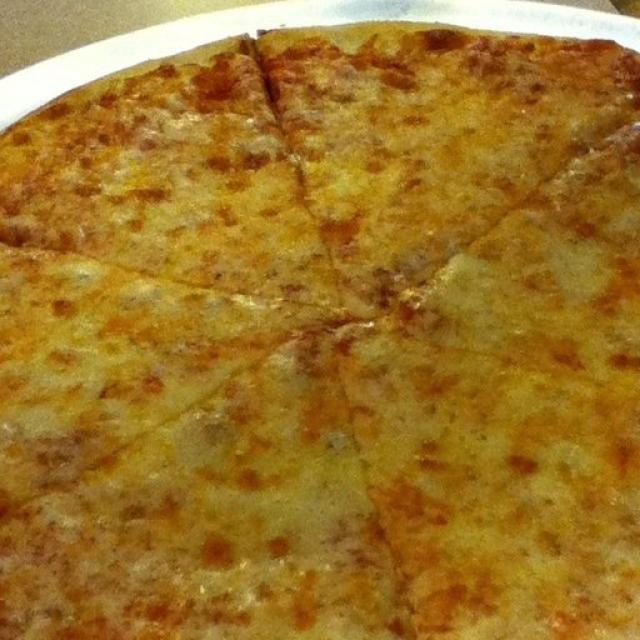Cheese: (12, 141, 640, 610)
Pizza: (0, 21, 640, 640)
